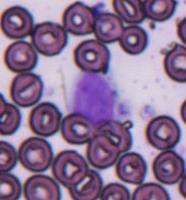L: (68, 72, 124, 127)
